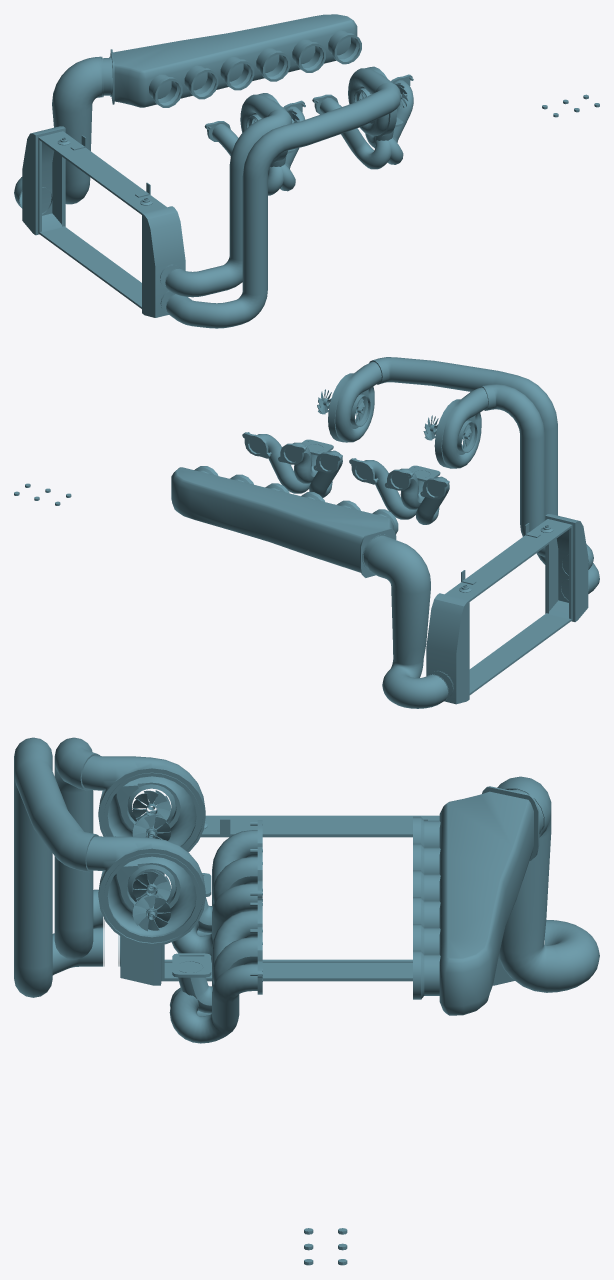
3 views of the same model, one above another, from view 1: azimuth 30°, elevation 25°; view 2: azimuth 150°, elevation 25°; view 3: azimuth 270°, elevation 25° (orthographic). The views are drawn at different scales.
Parts seen in each view (by area): view 1: rb26_stock_2_reference.001_rb26_stock_2_reference.001_rb26_stoc; view 2: rb26_stock_2_reference.001_rb26_stock_2_reference.001_rb26_stoc; view 3: rb26_stock_2_reference.001_rb26_stock_2_reference.001_rb26_stoc.
Part boxes in pixels (x1,y1,x2,y2): rb26_stock_2_reference.001_rb26_stock_2_reference.001_rb26_stoc: [14, 14, 599, 328]; rb26_stock_2_reference.001_rb26_stock_2_reference.001_rb26_stoc: [14, 357, 599, 708]; rb26_stock_2_reference.001_rb26_stock_2_reference.001_rb26_stoc: [14, 737, 599, 1265].
Bounding box in the file's own units: 80.93 × 29.42 × 53.1.
